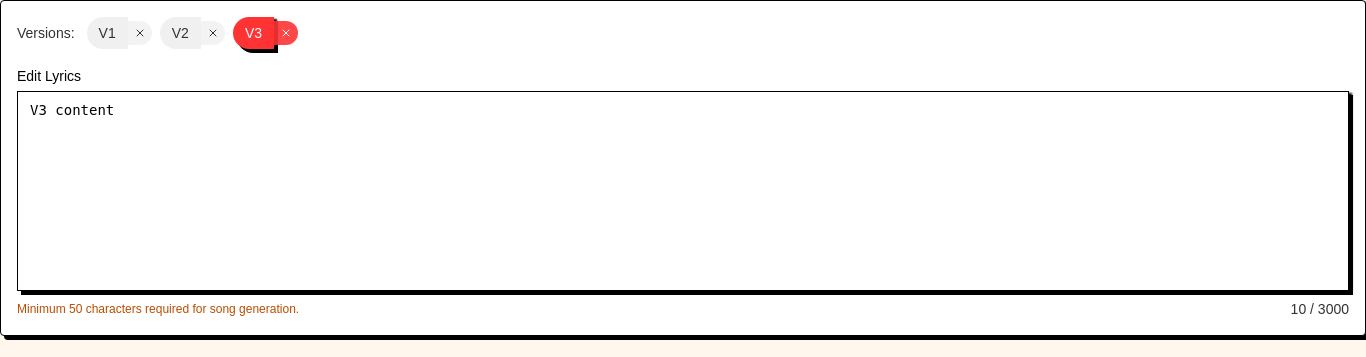
Scenario: Version Switching Unit Tests › Edge cases › should handle rapid version switching correctly
This screenshot has width=1366, height=357.
Rapid switching
Click the tab "V1" at {"x": 107, "y": 33}, box [87,17,128,49]
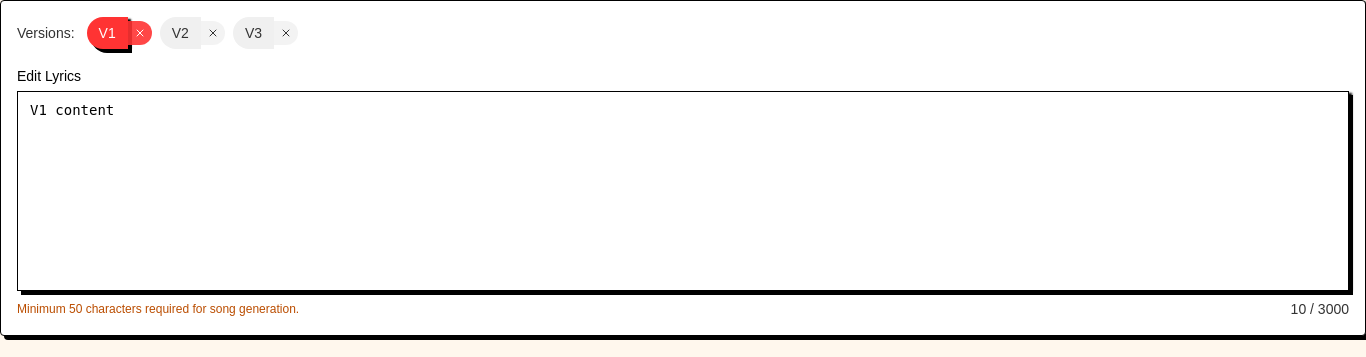
Click the tab "V2" at {"x": 180, "y": 33}, box [160,17,201,49]
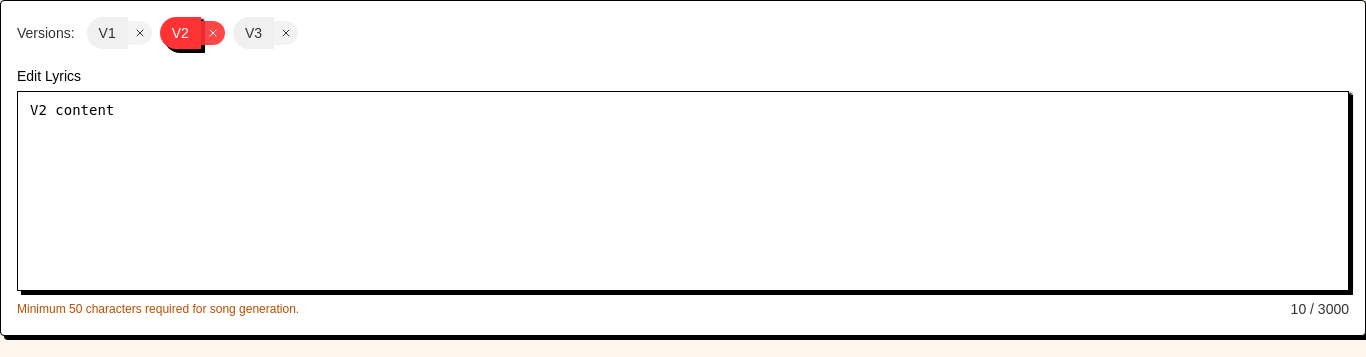
Click the tab "V3" at {"x": 253, "y": 33}, box [233,17,274,49]
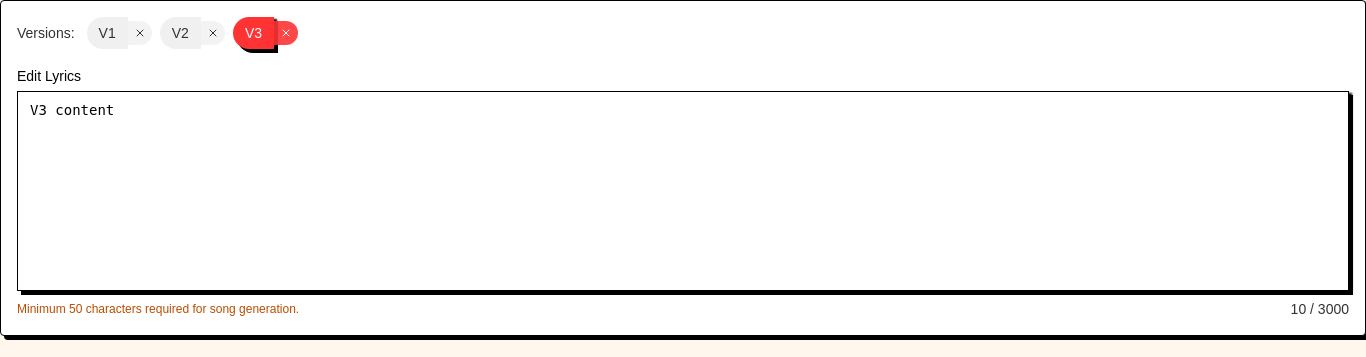
Click the tab "V1" at {"x": 107, "y": 33}, box [87,17,128,49]
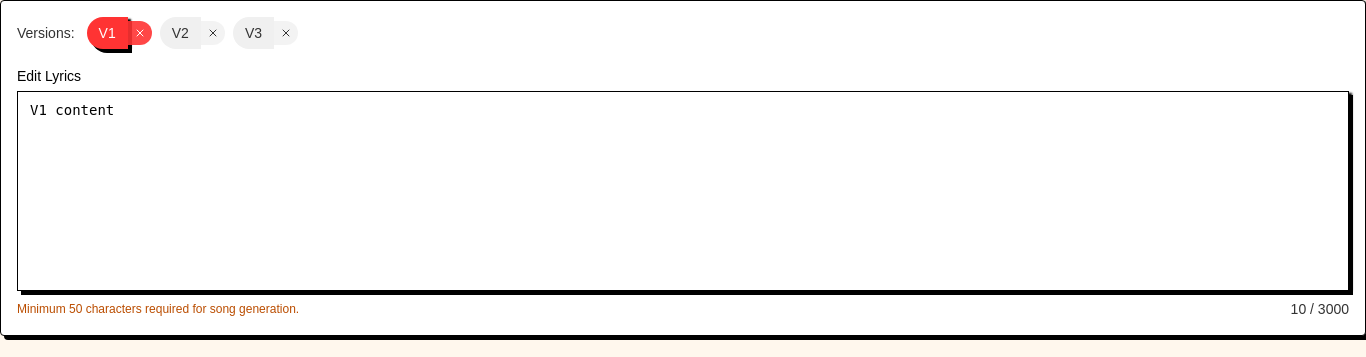
Now the text box holds "V1 content", box [17,91,1349,291]
